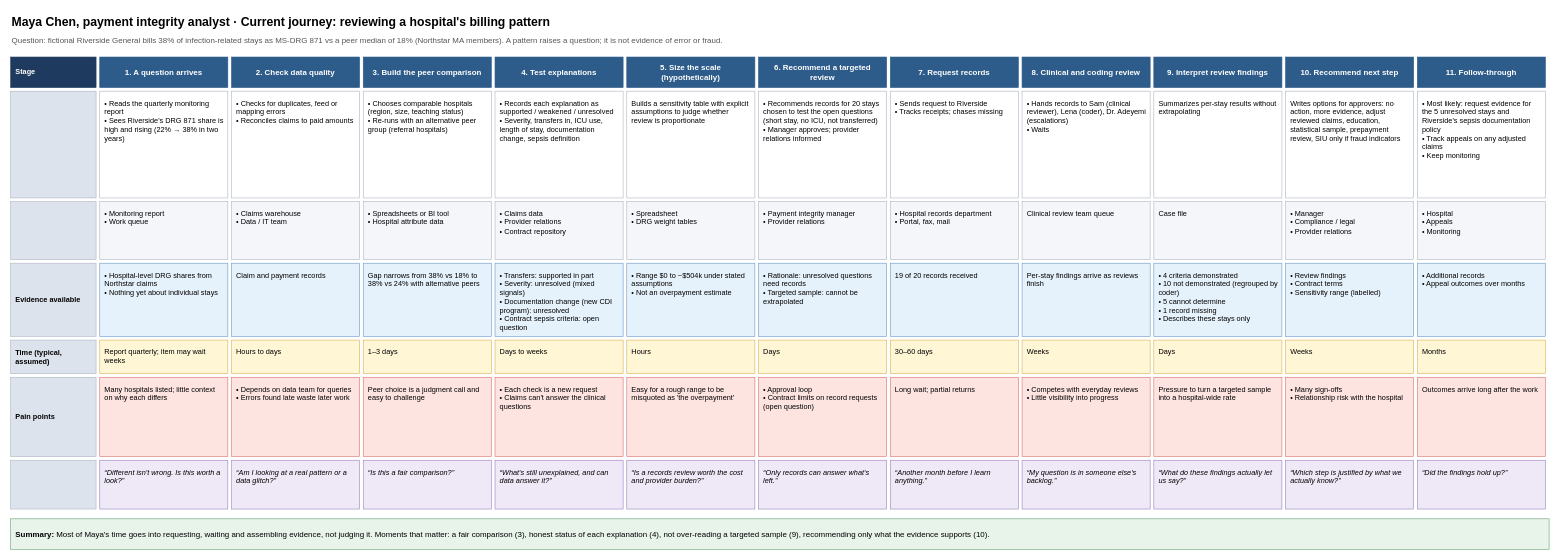
Some shapes in this 1560 by 560 pixel diagram are drawn without their labels. Here are the shapes that lost their labels. From the top down, the centre of each, then its label:
At [53,144]: "What they do".
At [53,230]: "Who / where".
At [53,484]: "Thinking".
